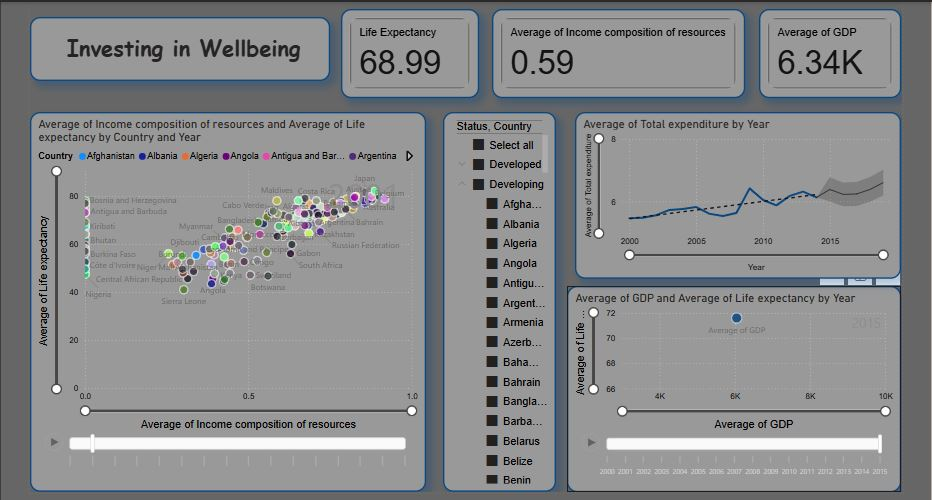

The dashboard page shown, as its layout file describes it:
{"tool":"powerbi","page":{"name":"GDP and Expenditure impact","canvas":[1280,720],"ordinal":3},"visuals":[{"type":"slicer","fields":{"Values":["Life Expectancy Data.Status Hierarchy.Status","Life Expectancy Data.Status Hierarchy.Country"]},"box":[606.9,161.6,166,558.4],"z":0},{"type":"scatterChart","fields":{"Play":["Life Expectancy Data.Year.Variation.Date Hierarchy.Year"],"Y":["Avg(Life Expectancy Data.Life expectancy )"],"X":["Avg(Life Expectancy Data.GDP)"]},"box":[789.1,417.3,490.8,302.7],"z":1000},{"type":"lineChart","fields":{"Category":["Life Expectancy Data.Year.Variation.Date Hierarchy.Year"],"Y":["Avg(Life Expectancy Data.Total expenditure)"]},"box":[800.8,161.6,479,245.4],"z":2000},{"type":"scatterChart","fields":{"X":["Avg(Life Expectancy Data.Income composition of resources)"],"Y":["Avg(Life Expectancy Data.Life expectancy )"],"Series":["Life Expectancy Data.Country"],"Play":["Life Expectancy Data.Year.Variation.Date Hierarchy.Year"]},"box":[0,161.6,581.9,558.4],"z":3000},{"type":"cardVisual","fields":{"Data":["Life Expectancy Data.Life Expectancy"]},"box":[457,10.3,202.8,130.8],"z":4000},{"type":"cardVisual","fields":{"Data":["Avg(Life Expectancy Data(WHO).Income composition of resources)"]},"box":[678.9,10.3,371.8,130.8],"z":5000},{"type":"cardVisual","fields":{"Data":["Avg(Life Expectancy Data(WHO).GDP)"]},"box":[1071.2,10.3,208.7,130.8],"z":6000},{"type":"textbox","box":[0,22,440.8,94],"z":7000}]}

Visuals, with their boxes in screenshot pixels (x1, y1, x2, y2):
slicer - Life Expectancy Data.Status Hierarchy.Status x Life Expectancy Data.Status Hierarchy.Country: 440 108 554 491
scatterChart - Life Expectancy Data.Year.Variation.Date Hierarchy.Year x Avg(Life Expectancy Data.Life expectancy ): 565 283 901 491
lineChart - Life Expectancy Data.Year.Variation.Date Hierarchy.Year x Avg(Life Expectancy Data.Total expenditure): 573 108 901 276
scatterChart - Avg(Life Expectancy Data.Income composition of resources) x Avg(Life Expectancy Data.Life expectancy ): 24 108 423 491
cardVisual - Life Expectancy Data.Life Expectancy: 337 5 476 94
cardVisual - Avg(Life Expectancy Data(WHO).Income composition of resources): 489 5 744 94
cardVisual - Avg(Life Expectancy Data(WHO).GDP): 758 5 901 94
textbox: 24 13 326 77
